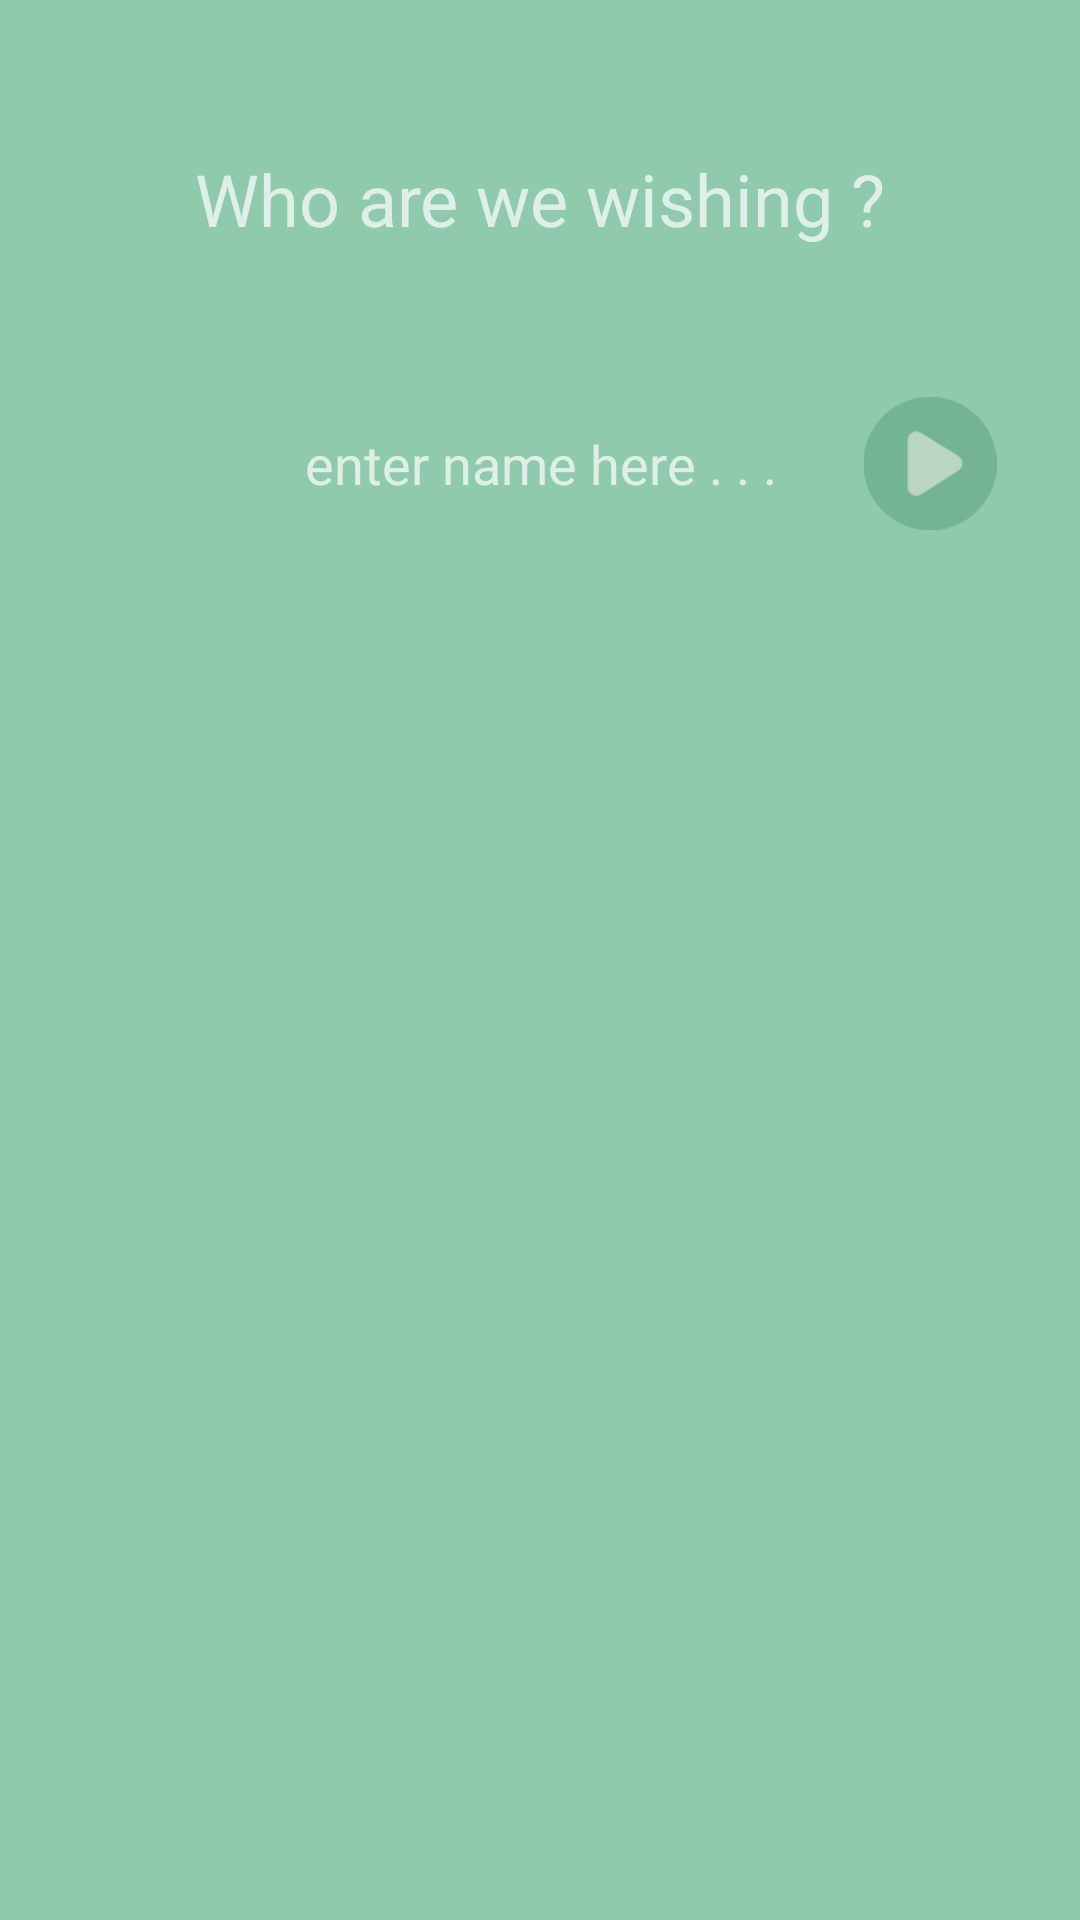

Icons on this 1080 × 1920 Android screen, each with its box as detection(x1, y1, x2, y2):
play: detection(864, 397, 997, 530)
